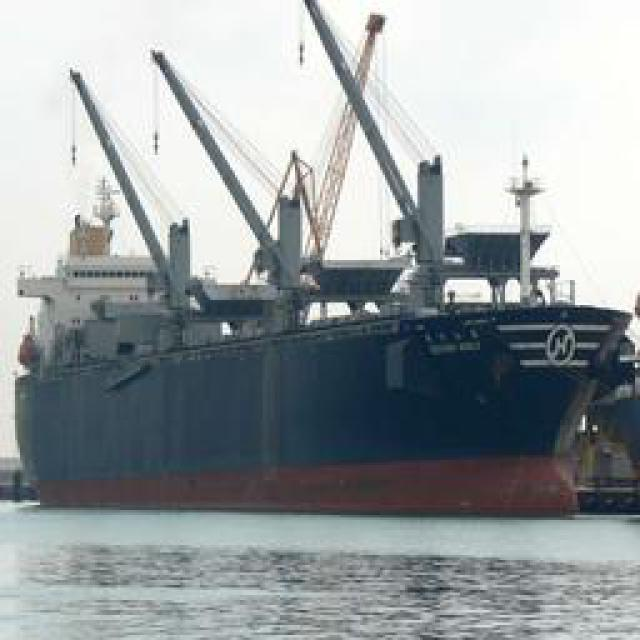Ship: (13, 4, 628, 497)
